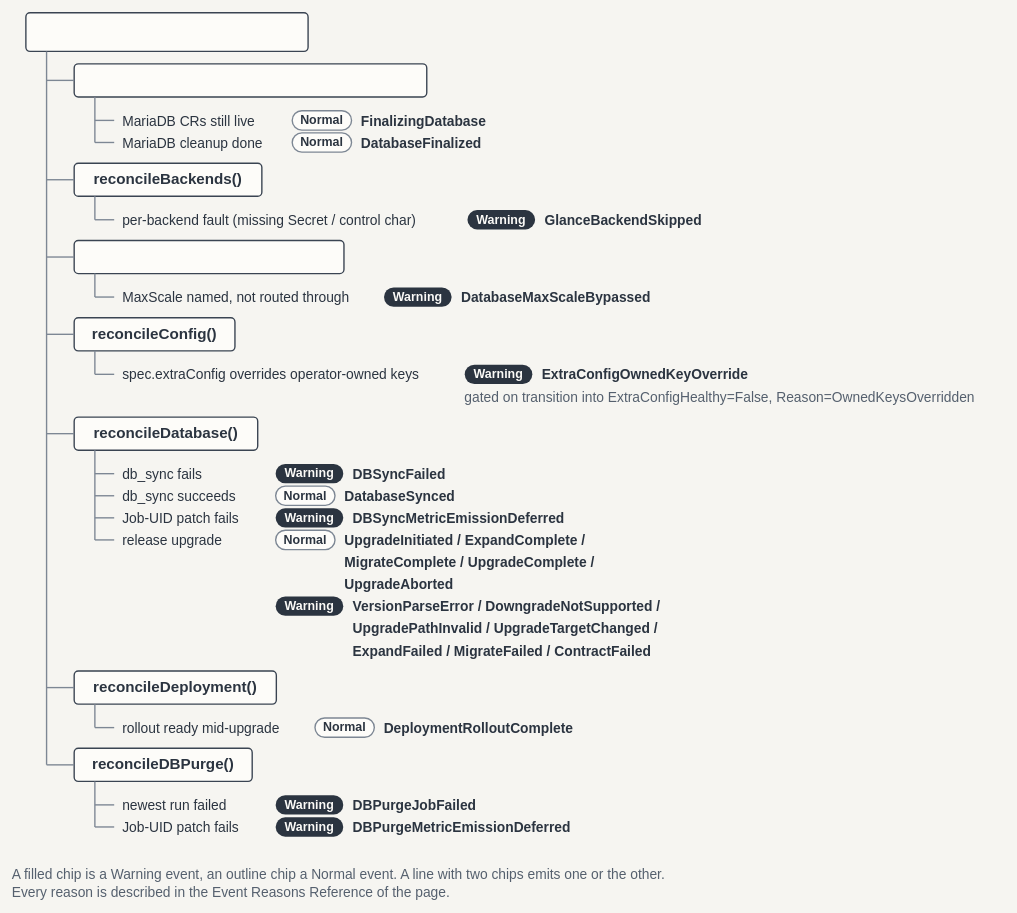
This 1017x913 diagram has some shape labels left out. The centre of each missing label's shape, as x and y in pixels:
GlanceReconciler.Reconcile(): point 166,32
reconcileDBConnectionSecret(): point 208,256
reconcileDelete() (deletionTimestamp set): point 250,80
